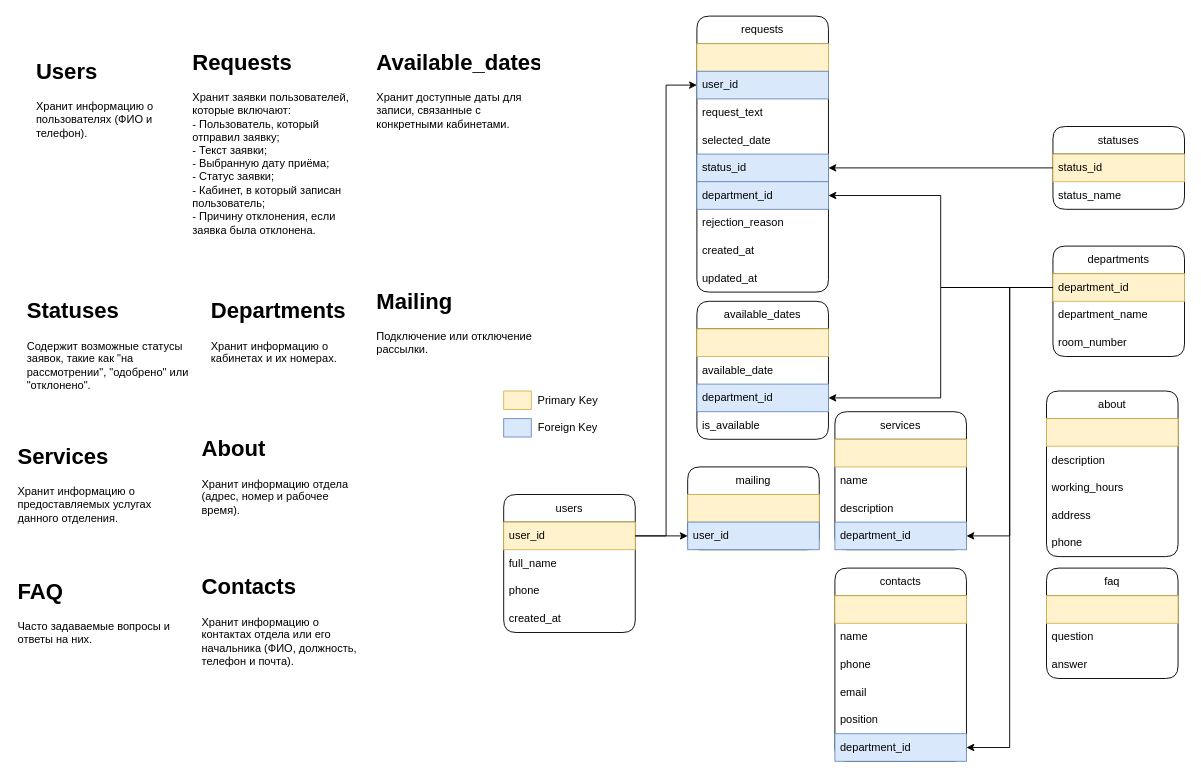
The diagram is 1201 pixels wide and 777 high, and some of its shapes have lost their labels. The centre of each missing label's shape, as x and y in pixels:
"about_id" goes at (x=1112, y=432).
"available_date_id" goes at (x=762, y=342).
"contacts_id" goes at (x=900, y=609).
"faq_id" goes at (x=1112, y=609).
"mailing_id" goes at (x=753, y=508).
"request_id" goes at (x=762, y=57).
"services_id" goes at (x=900, y=452).
